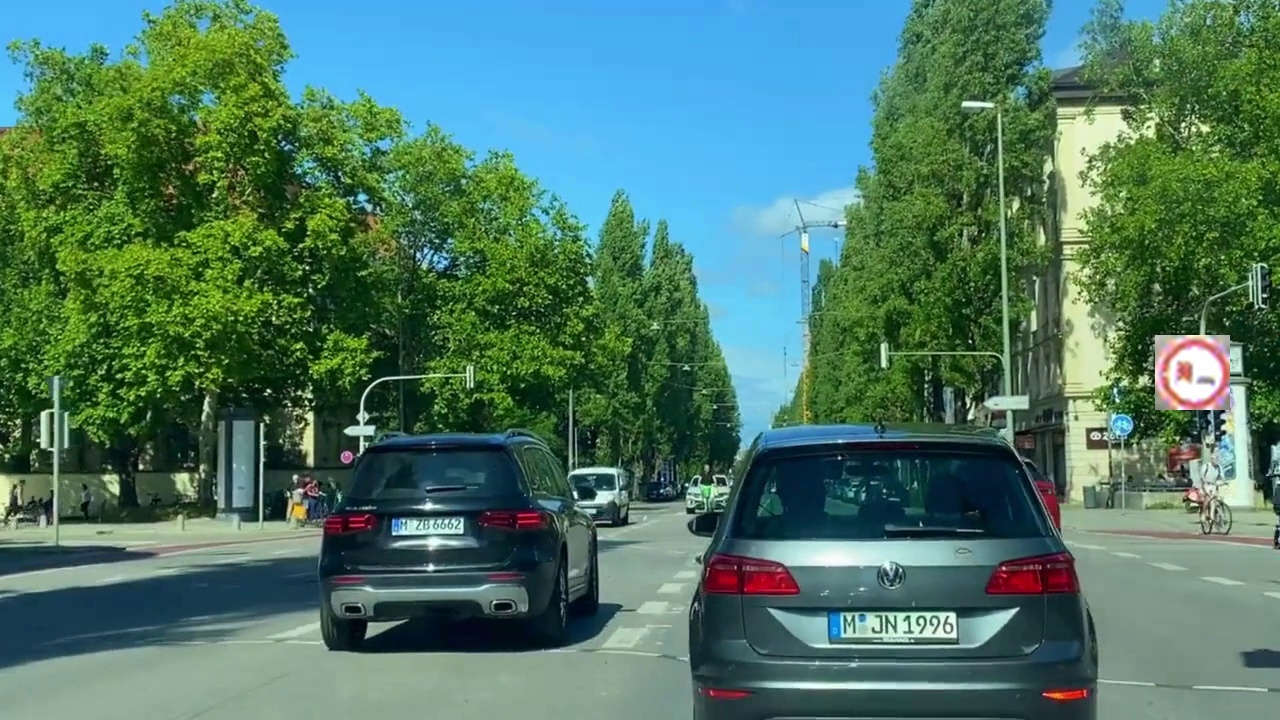No pass >3.5t: (1155, 335, 1230, 410)
